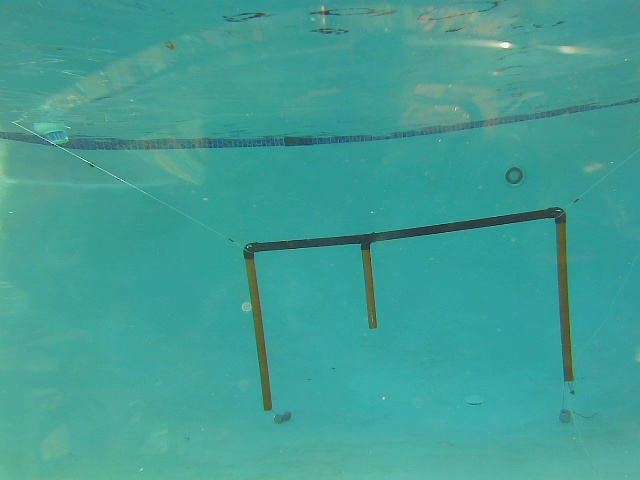Gate: (243, 250, 276, 412), (553, 215, 574, 383), (356, 241, 377, 330)
